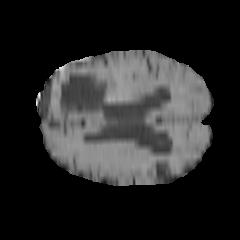glioma: (49, 65, 121, 145)
